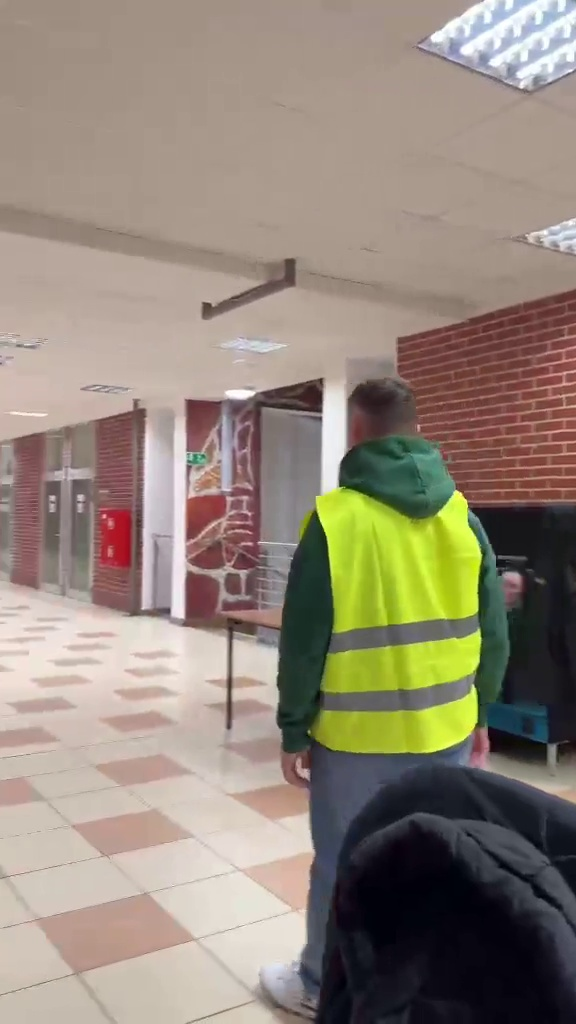vest: (283, 367, 498, 1021)
